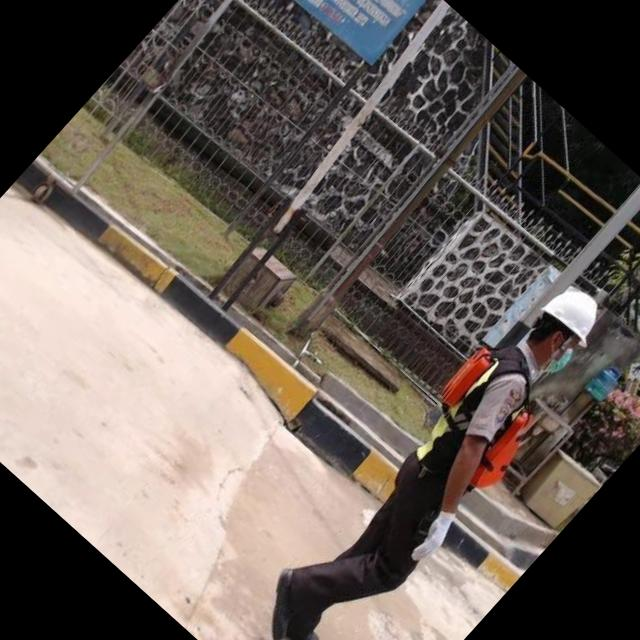hard_hat: (539, 274, 617, 350)
safety_vest: (390, 334, 570, 516)
vehicle: (188, 214, 640, 640)
work_boots: (236, 558, 326, 640), (271, 602, 334, 640)
